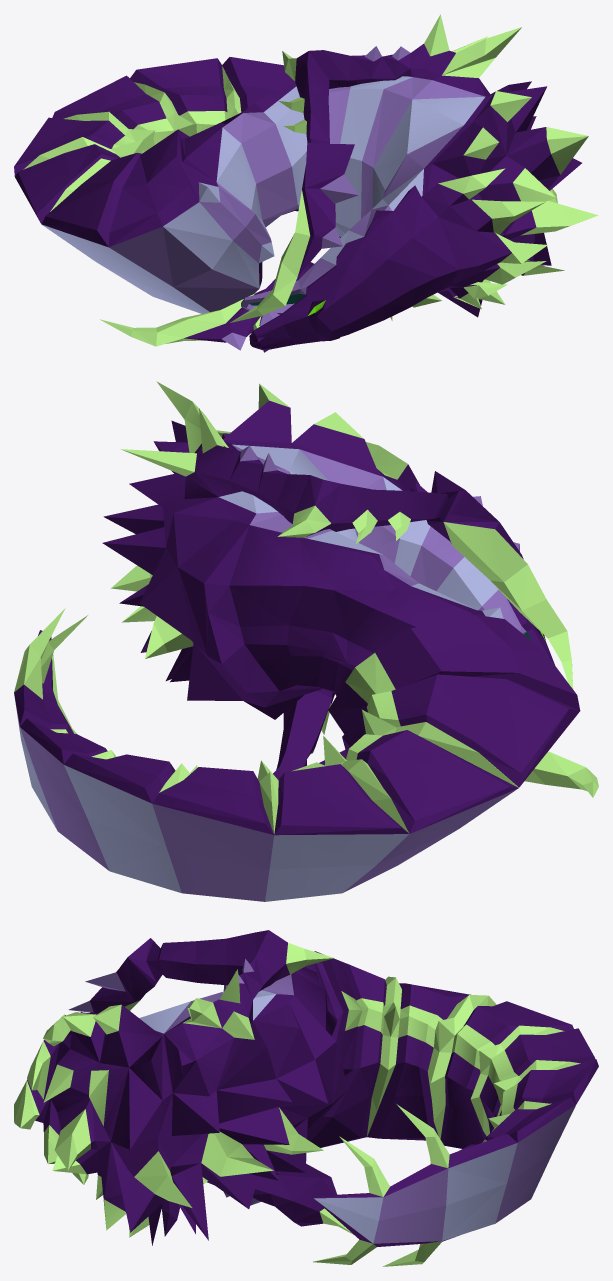
File: Dead (44).obj
The picture shows the model from 3 angles, top to bottom: view 1: azimuth 30°, elevation 25°; view 2: azimuth 150°, elevation 25°; view 3: azimuth 270°, elevation 25°; orthographic projection. The views are drawn at different scales.
Parts seen in each view (by area): view 1: Alien_Serpent; view 2: Alien_Serpent; view 3: Alien_Serpent.
Boxes of the visible parts, x1=… form: Alien_Serpent: x1=14, y1=14, x2=598, y2=352; Alien_Serpent: x1=14, y1=381, x2=598, y2=901; Alien_Serpent: x1=14, y1=930, x2=598, y2=1266.
Size of the model in its own units: 213 by 145 by 246.
Materials: 1 (1 with a texture image).
